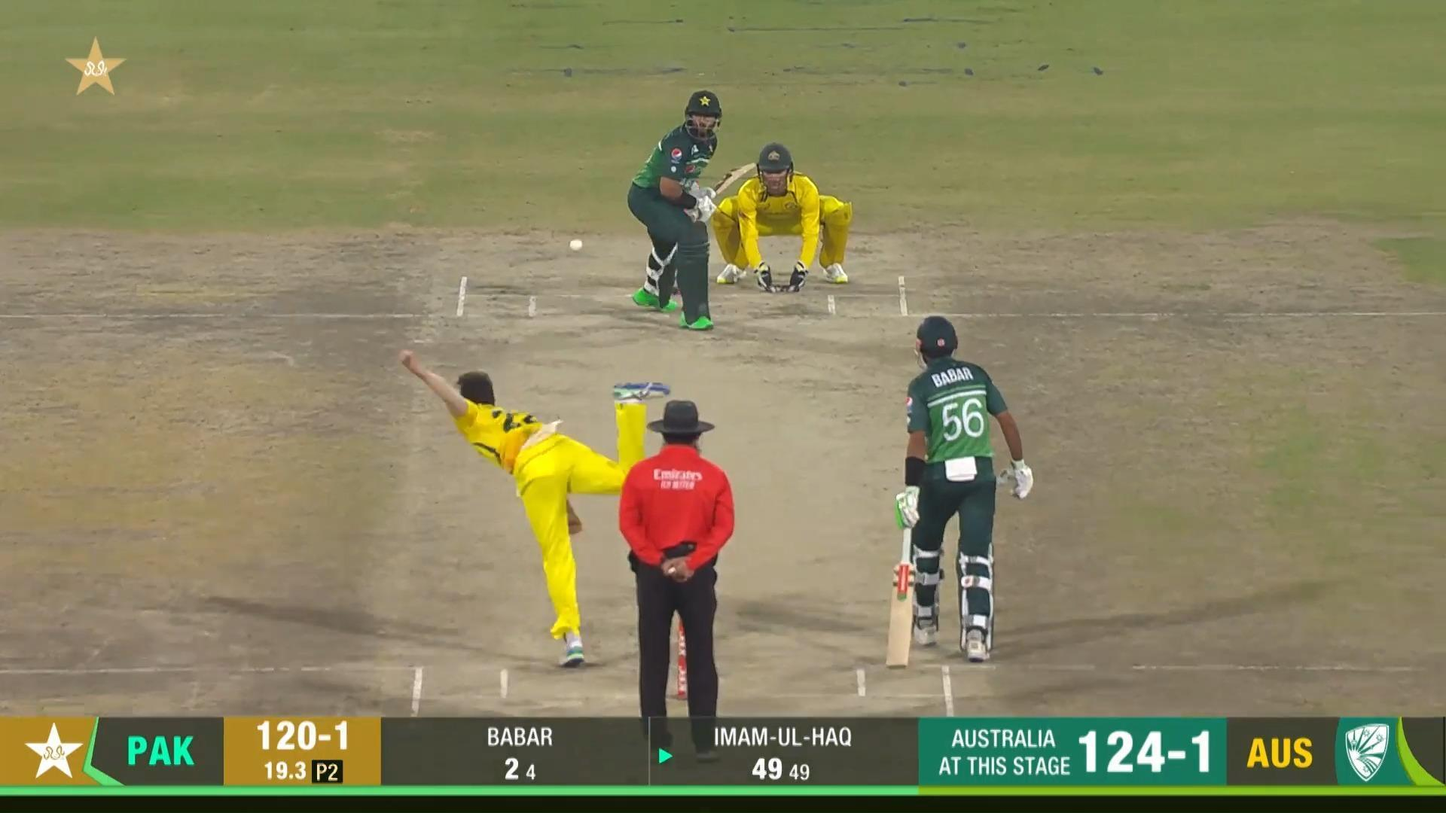BM 1: (625, 88, 759, 333)
BO: (397, 347, 672, 667)
